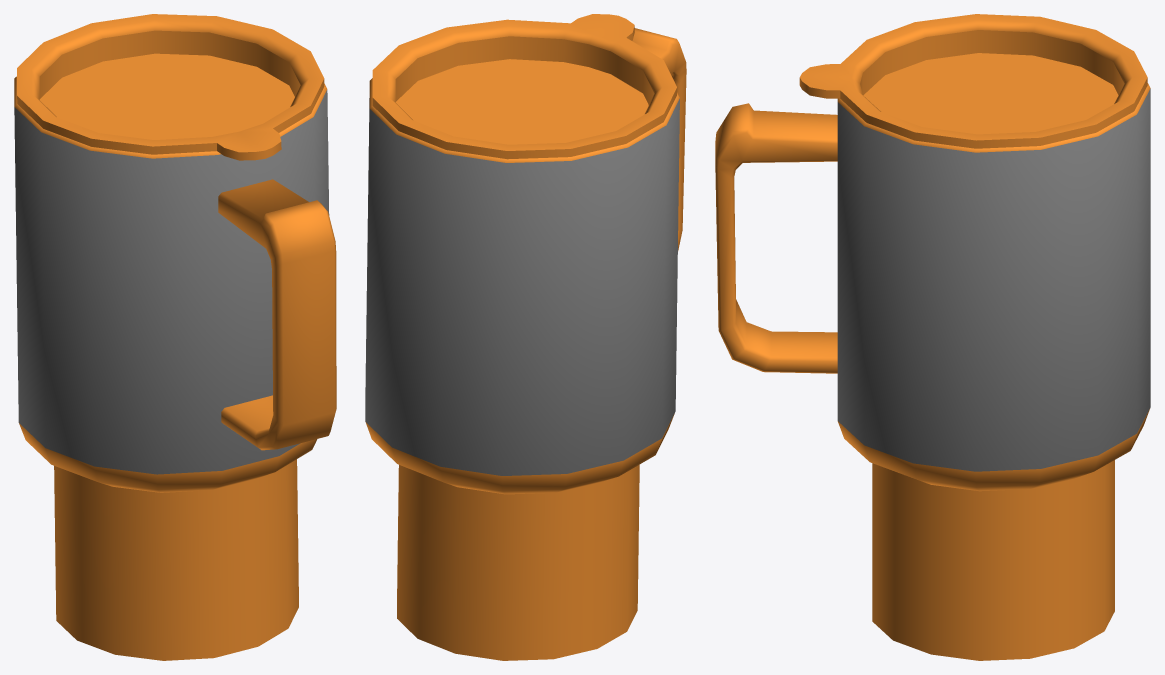
Rendered from SM_Travel_mug.fbx.
3 renders of one model, left to right at view 1: azimuth 30°, elevation 25°; view 2: azimuth 150°, elevation 25°; view 3: azimuth 270°, elevation 25°, orthographic.
Visible parts, largest first — view 1: SM_Travel_mug; view 2: SM_Travel_mug; view 3: SM_Travel_mug.
Boxes of the visible parts, bbox=[...] form: SM_Travel_mug: bbox=[14, 14, 336, 660]; SM_Travel_mug: bbox=[365, 14, 686, 660]; SM_Travel_mug: bbox=[715, 14, 1150, 660].
Size of the model in its own units: 14.44 by 19.65 by 26.58.
Materials: 1 (1 with a texture image).
